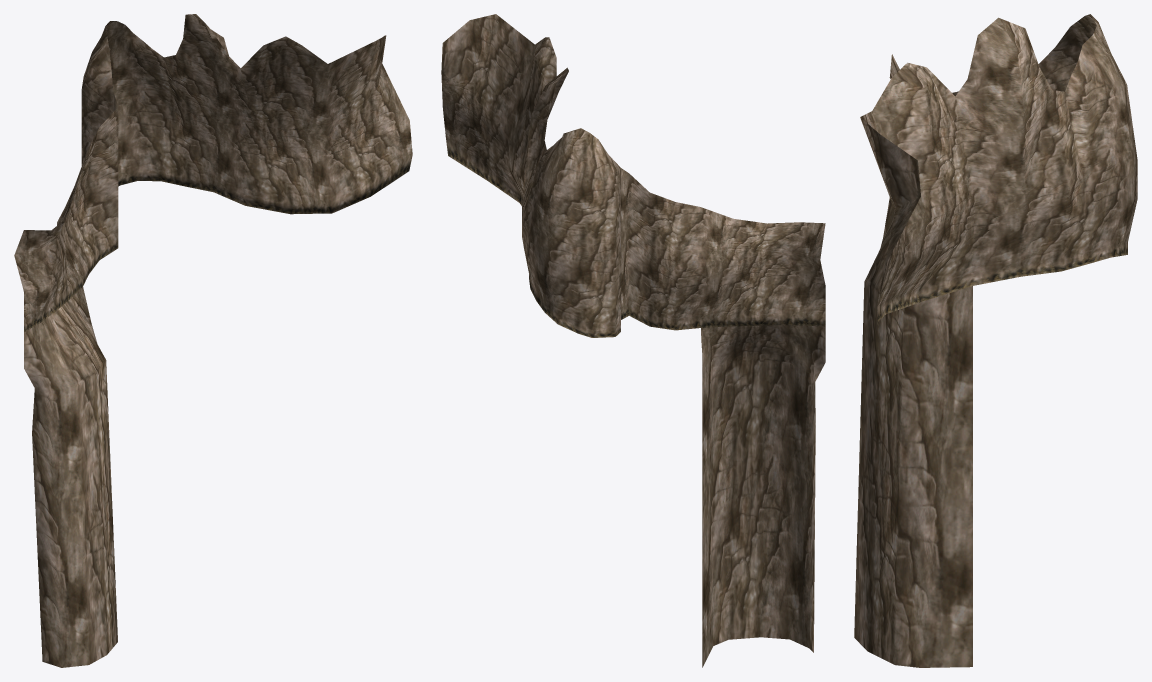
Rendered from OVERHILL_A_01_WALL11.fbx.
The picture shows the model from 3 angles, left to right: view 1: azimuth 30°, elevation 25°; view 2: azimuth 150°, elevation 25°; view 3: azimuth 270°, elevation 25°; orthographic projection. The views are drawn at different scales.
Parts seen in each view (by area): view 1: OVERHILL_A_01_WALL11; view 2: OVERHILL_A_01_WALL11; view 3: OVERHILL_A_01_WALL11.
Part boxes in pixels (x1,y1,x2,y2): OVERHILL_A_01_WALL11: (14,14,412,667); OVERHILL_A_01_WALL11: (441,14,825,667); OVERHILL_A_01_WALL11: (854,14,1137,667).
Size of the model in its own units: 211013 by 300049 by 106182.
Materials: 2 (2 with a texture image).
